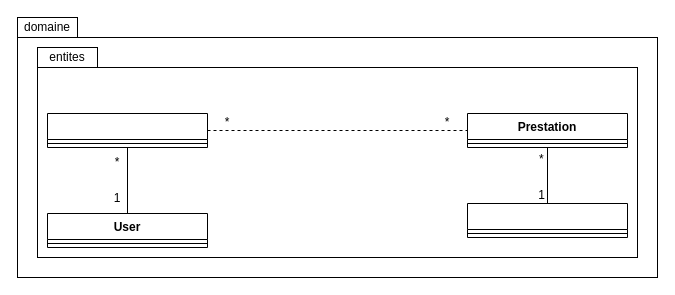
The diagram is 675 pixels wide and 295 high, and some of its shapes have lost their labels. Here are the shapes that lost their labels. From the top down, the centre of each, then its label:
At point 127,130: "Box".
At point 547,220: "Cathegorie".
